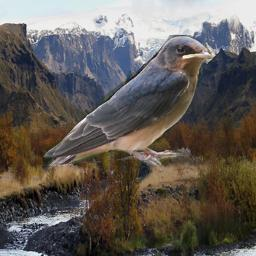Swallow: (42, 35, 214, 174)
